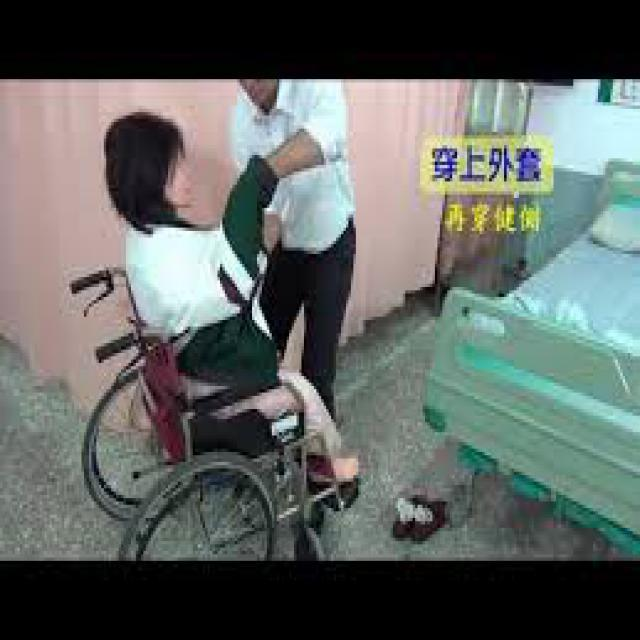wheelchairs: (64, 257, 366, 561)
